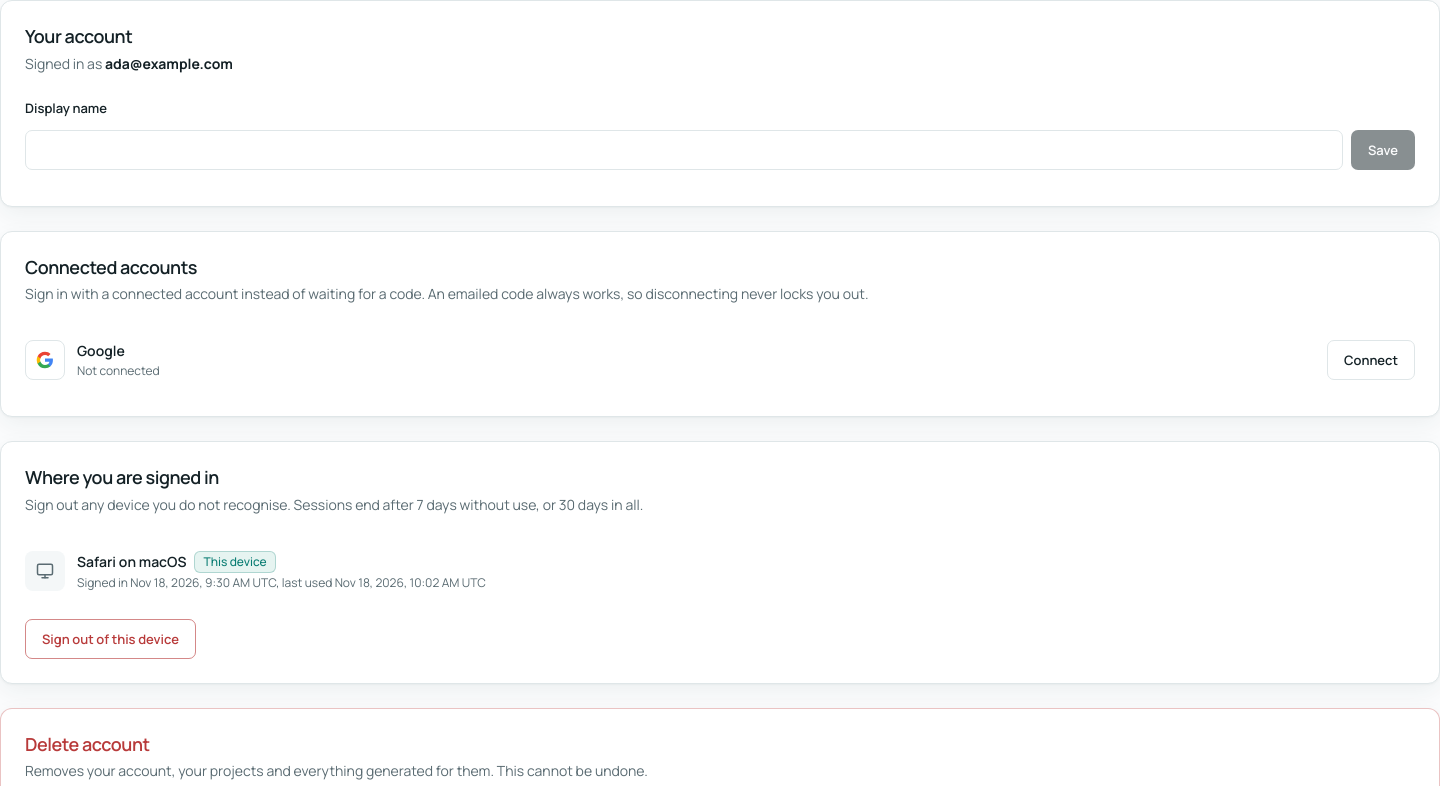
Test: AccountView: connected accounts › shows a connect failure (forbidden) and stays on the page
Click the button with aria-label "Connect Google": (1371, 360) left=1327, top=340, right=1415, bottom=380
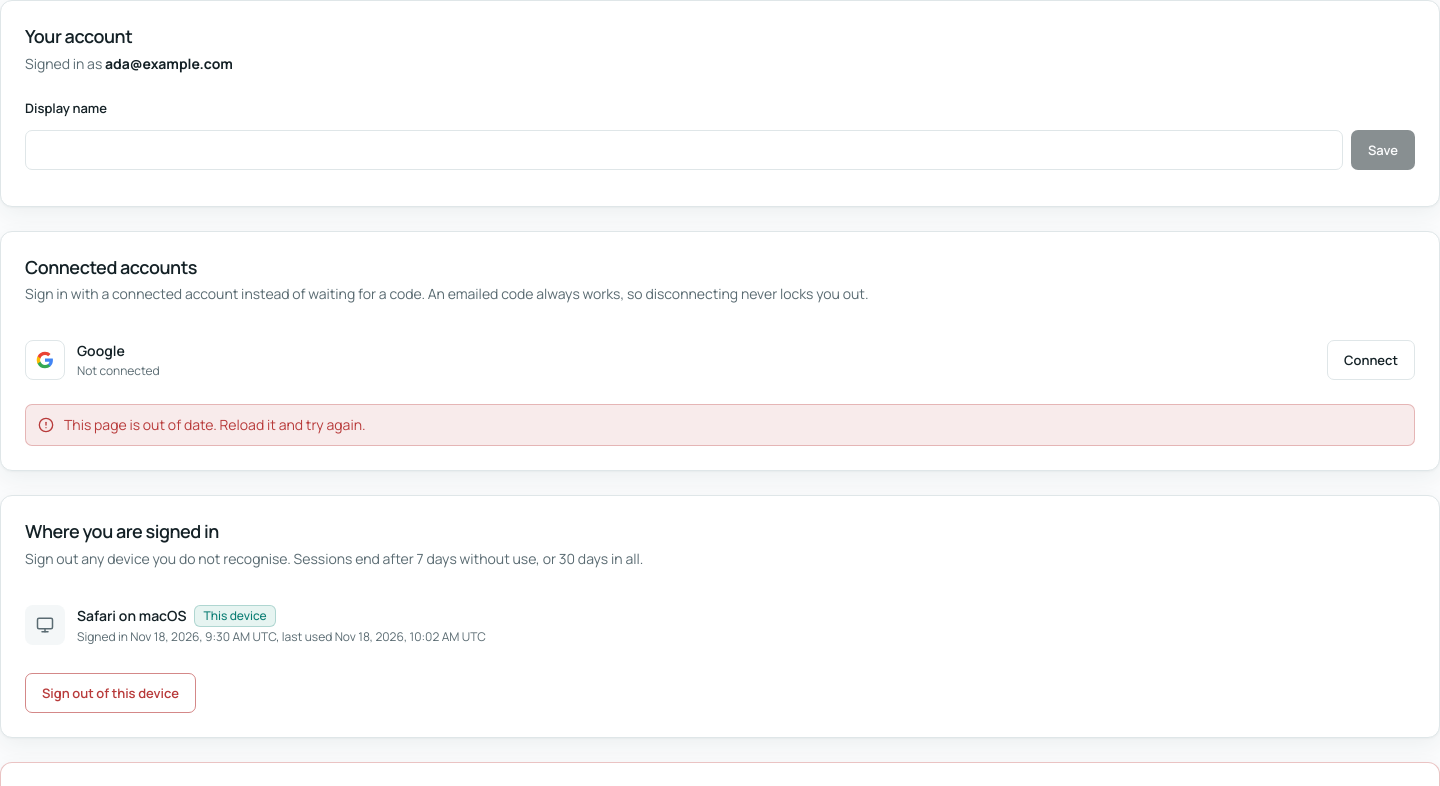
expect the message shows "out of date": met, box left=64, top=415, right=366, bottom=434
